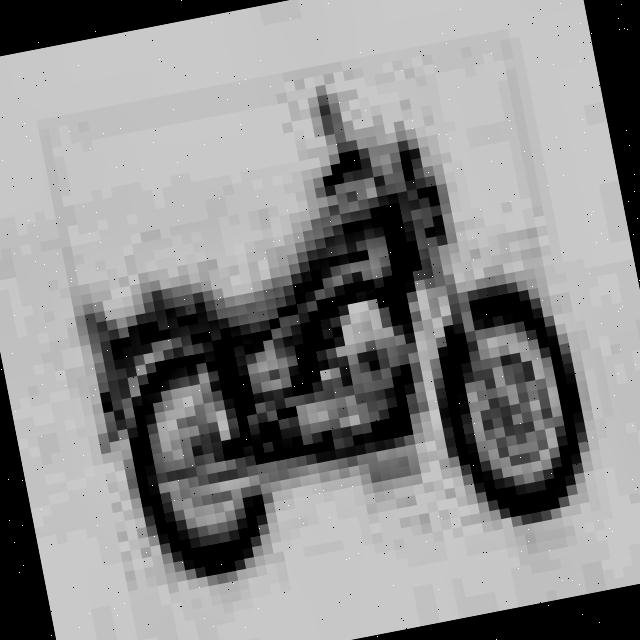mopeds: (42, 72, 618, 614)
